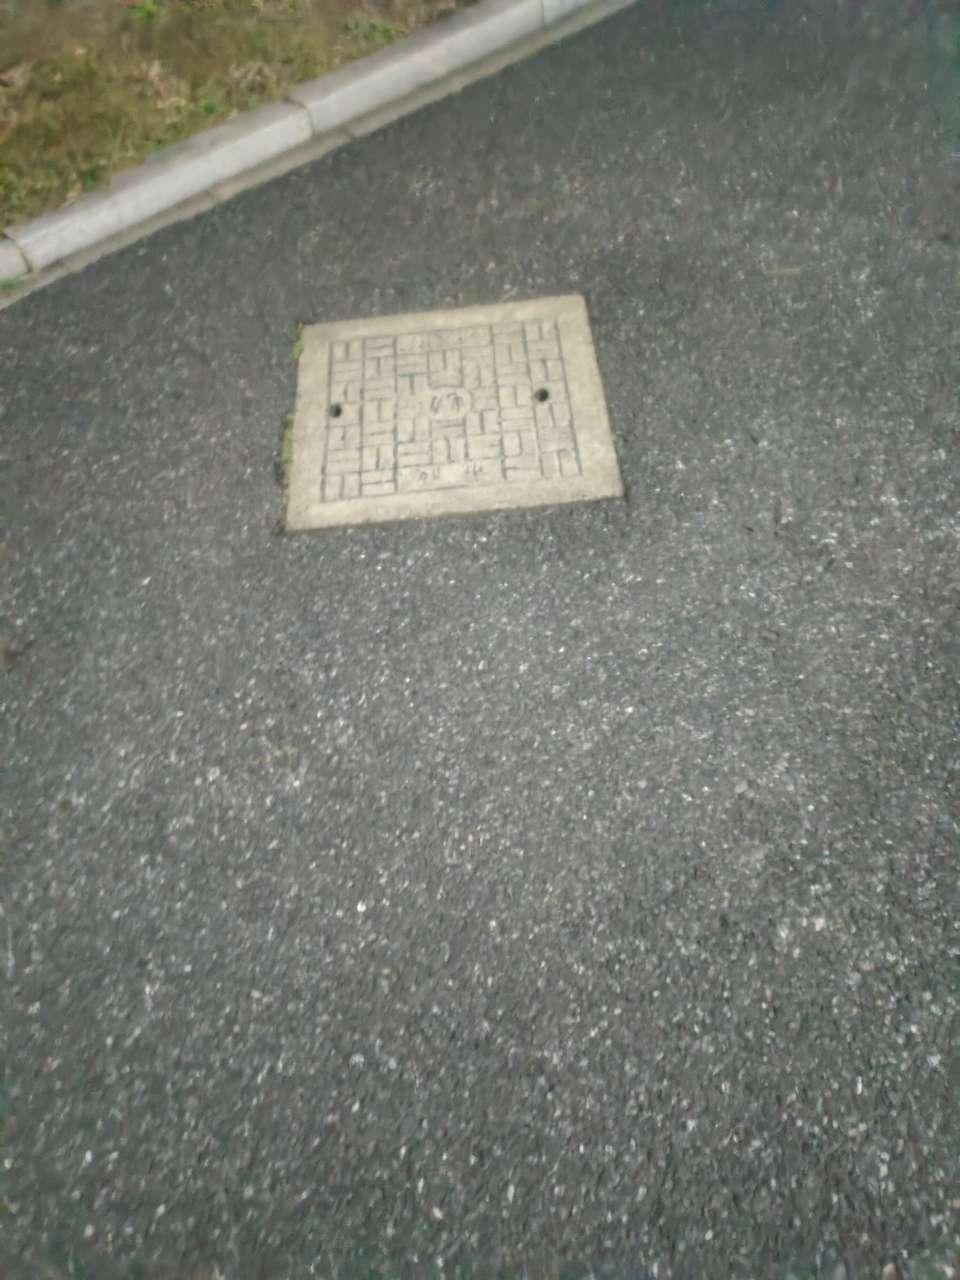wellcover: (273, 281, 633, 529)
